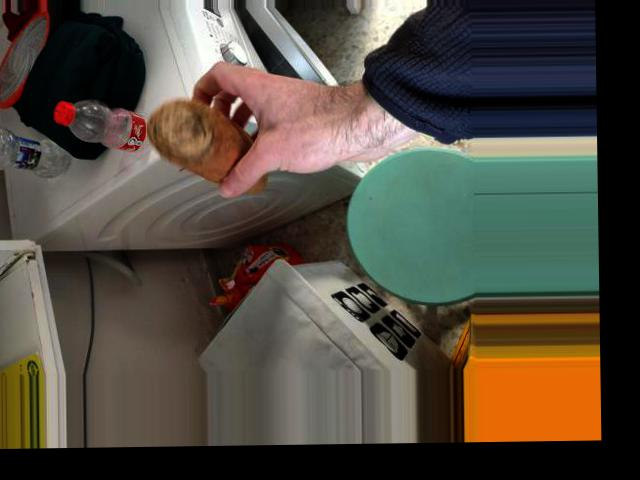sweet_potato: (154, 94, 282, 202)
